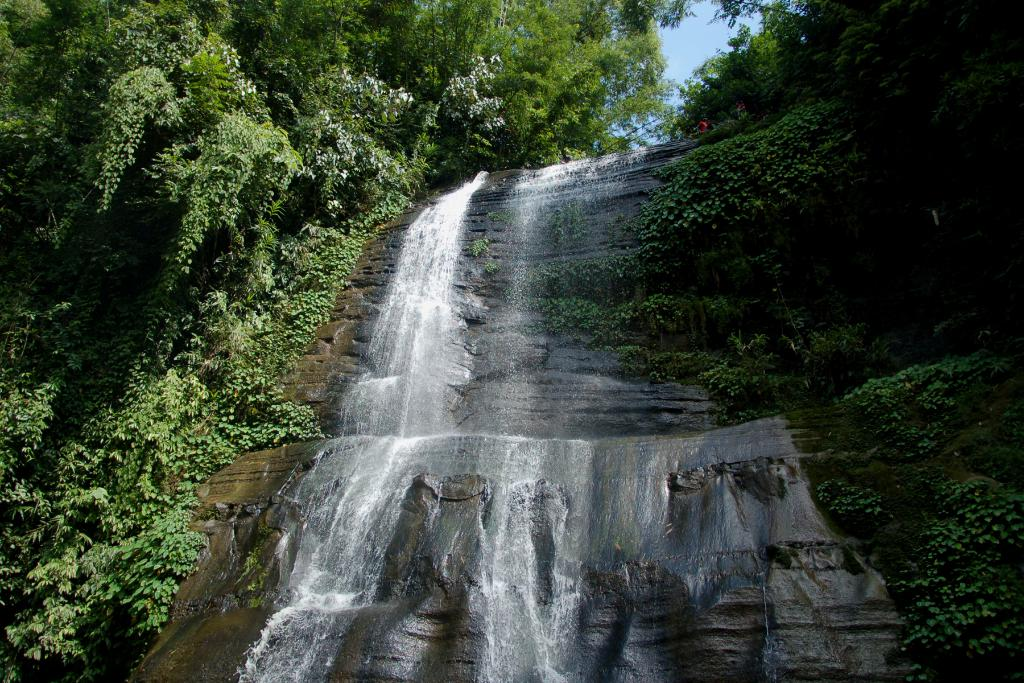Tree: (0, 0, 680, 683), (652, 0, 1024, 170)
